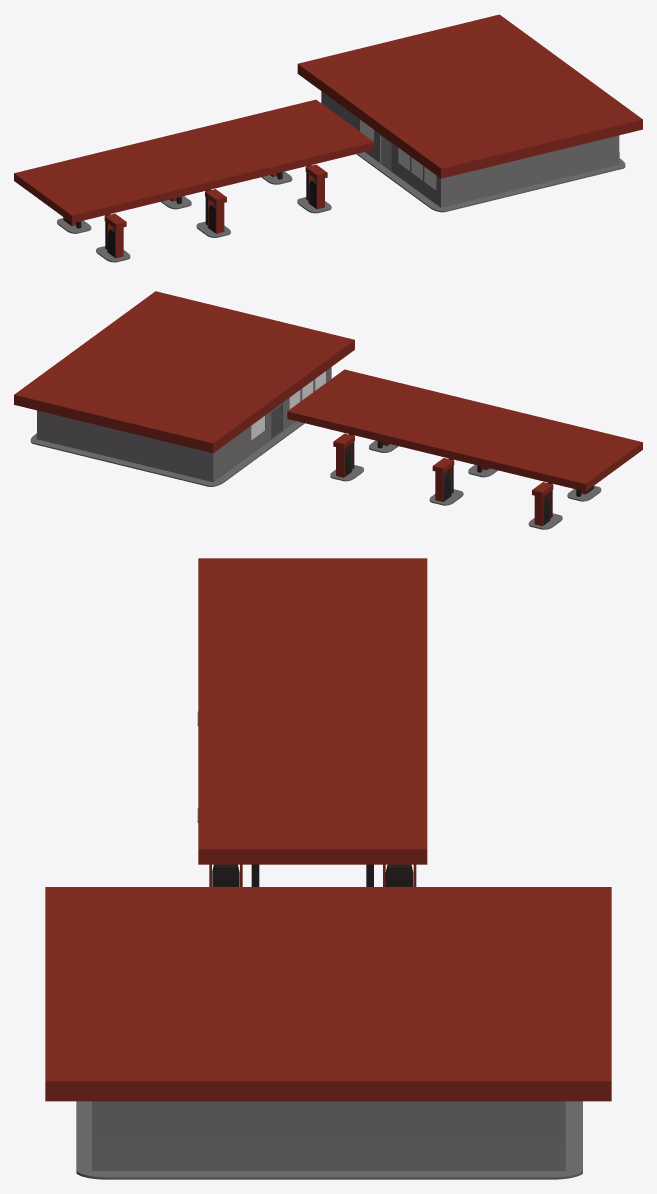
Rendered from Gas Station.fbx.
3 renders of one model, top to bottom at view 1: azimuth 30°, elevation 25°; view 2: azimuth 150°, elevation 25°; view 3: azimuth 270°, elevation 25°, orthographic. The views are drawn at different scales.
Visible parts, largest first — view 1: Convenience Store, Roof, Block, Pump C, Pump B, Pump A, Curb C, Curb A, Curb B; view 2: Convenience Store, Roof, Block, Pump C, Pump B, Pump A, Curb C, Curb B, Curb A; view 3: Convenience Store, Roof, Block, Pump A.
Part boxes in pixels (bbox=[...]): Convenience Store: bbox=[297, 14, 642, 207]; Roof: bbox=[14, 99, 374, 223]; Block: bbox=[356, 152, 625, 212]; Pump C: bbox=[63, 213, 126, 258]; Pump B: bbox=[170, 189, 226, 233]; Pump A: bbox=[270, 164, 327, 209]; Curb C: bbox=[57, 218, 130, 262]; Curb A: bbox=[261, 171, 331, 213]; Curb B: bbox=[161, 196, 230, 237]; Convenience Store: bbox=[14, 291, 354, 481]; Roof: bbox=[287, 369, 642, 491]; Block: bbox=[30, 421, 304, 486]; Pump C: bbox=[532, 482, 594, 526]; Pump B: bbox=[432, 458, 488, 501]; Pump A: bbox=[333, 433, 389, 477]; Curb C: bbox=[528, 486, 601, 529]; Curb B: bbox=[429, 465, 497, 505]; Curb A: bbox=[330, 440, 398, 481]; Convenience Store: bbox=[45, 887, 611, 1170]; Roof: bbox=[198, 558, 427, 864]; Block: bbox=[76, 1101, 582, 1179]; Pump A: bbox=[209, 864, 416, 886].
Bounding box in the file's own units: 4235 × 437 × 1976.
